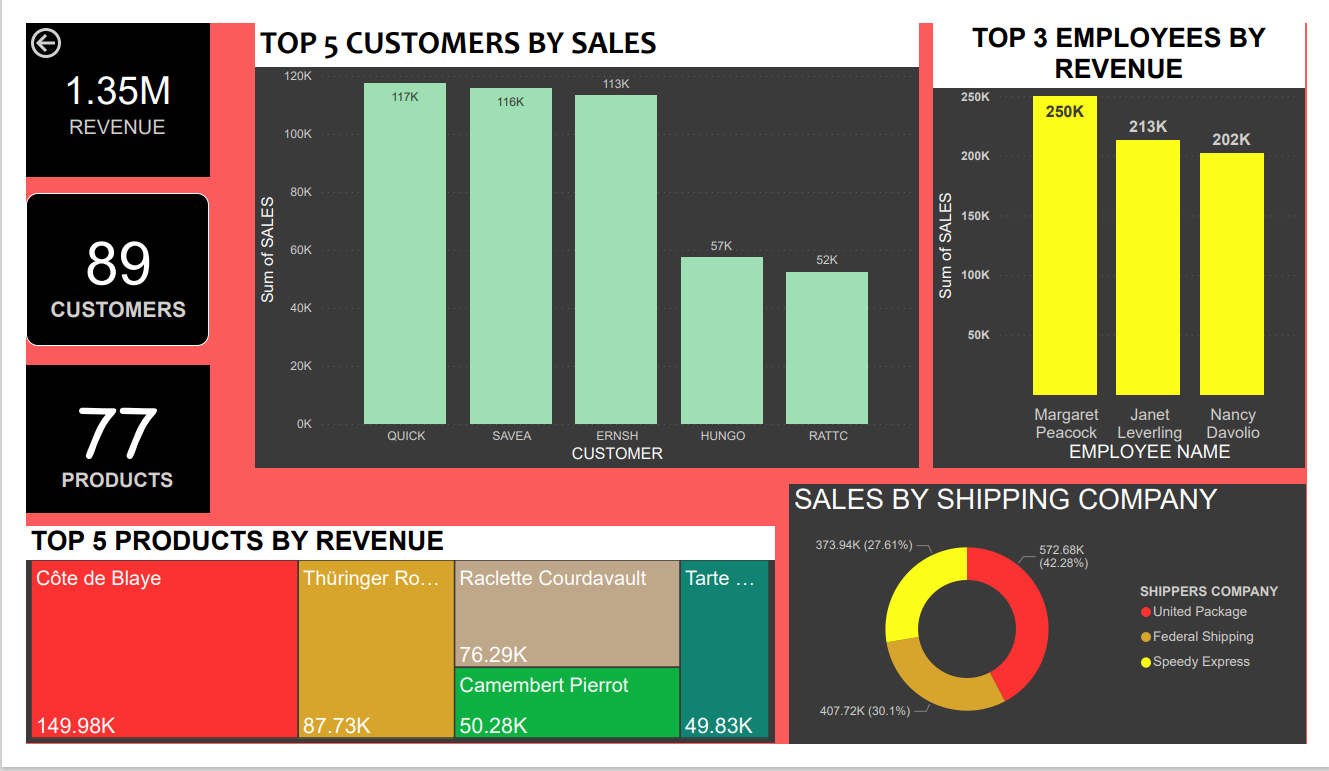

The page's visual inventory and layout, read from the dashboard file:
{"tool":"powerbi","page":{"name":"Page 1","canvas":[1280,720],"ordinal":0},"visuals":[{"type":"columnChart","title":"TOP 3 EMPLOYEES BY REVENUE","fields":{"Category":["Order details.EMPLOYEE NAME"],"Y":["Order details.SALES "]},"box":[907.1,0,372.3,444.1],"z":0},{"type":"donutChart","title":"SALES BY SHIPPING COMPANY","fields":{"Category":["ORDER DETAILS 1.SHIPPERS COMPANY"],"Y":["ORDER DETAILS 1.SALES "]},"box":[763.5,461.1,515.9,258.9],"z":1000},{"type":"treemap","title":"TOP 5 PRODUCTS BY REVENUE","fields":{"Group":["ORDER DETAILS 1.PRODUCT"],"Values":["ORDER DETAILS 1.SALES "]},"box":[0,502.7,748.4,217.3],"z":2000},{"type":"columnChart","title":"TOP 5 CUSTOMERS BY SALES","fields":{"Category":["ORDER DETAILS 1.CUSTOMER"],"Y":["ORDER DETAILS 1.SALES "]},"box":[228.7,0,663.3,444.1],"z":3000},{"type":"card","fields":{"Values":["ORDER DETAILS 1.SALES "]},"box":[0,0,183.3,153.1],"z":4000},{"type":"card","fields":{"Values":["ORDER DETAILS 1.CUSTOMER"]},"box":[0,170.1,183.3,153.1],"z":5000},{"type":"card","fields":{"Values":["ORDER DETAILS 1.PRODUCT"]},"box":[0,342,183.3,147.4],"z":6000},{"type":"actionButton","box":[0,0,100,40],"z":7000}]}

Visuals, with their boxes on the page's 1280x720 design canvas (x1, y1, x2, y2). These are canvas units, not pixel positions in the 1329x771 screenshot, which may show the page scaled, cropped or inside an application window:
"TOP 3 EMPLOYEES BY REVENUE" columnChart: [left=907, top=0, right=1279, bottom=444]
"SALES BY SHIPPING COMPANY" donutChart: [left=764, top=461, right=1279, bottom=720]
"TOP 5 PRODUCTS BY REVENUE" treemap: [left=0, top=503, right=748, bottom=720]
"TOP 5 CUSTOMERS BY SALES" columnChart: [left=229, top=0, right=892, bottom=444]
card - ORDER DETAILS 1.SALES : [left=0, top=0, right=183, bottom=153]
card - ORDER DETAILS 1.CUSTOMER: [left=0, top=170, right=183, bottom=323]
card - ORDER DETAILS 1.PRODUCT: [left=0, top=342, right=183, bottom=489]
actionButton: [left=0, top=0, right=100, bottom=40]
